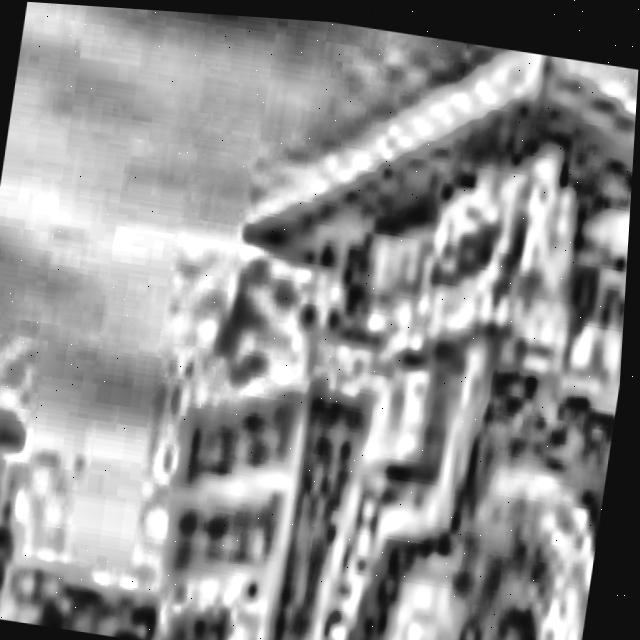dump_truck: (149, 9, 640, 640)
